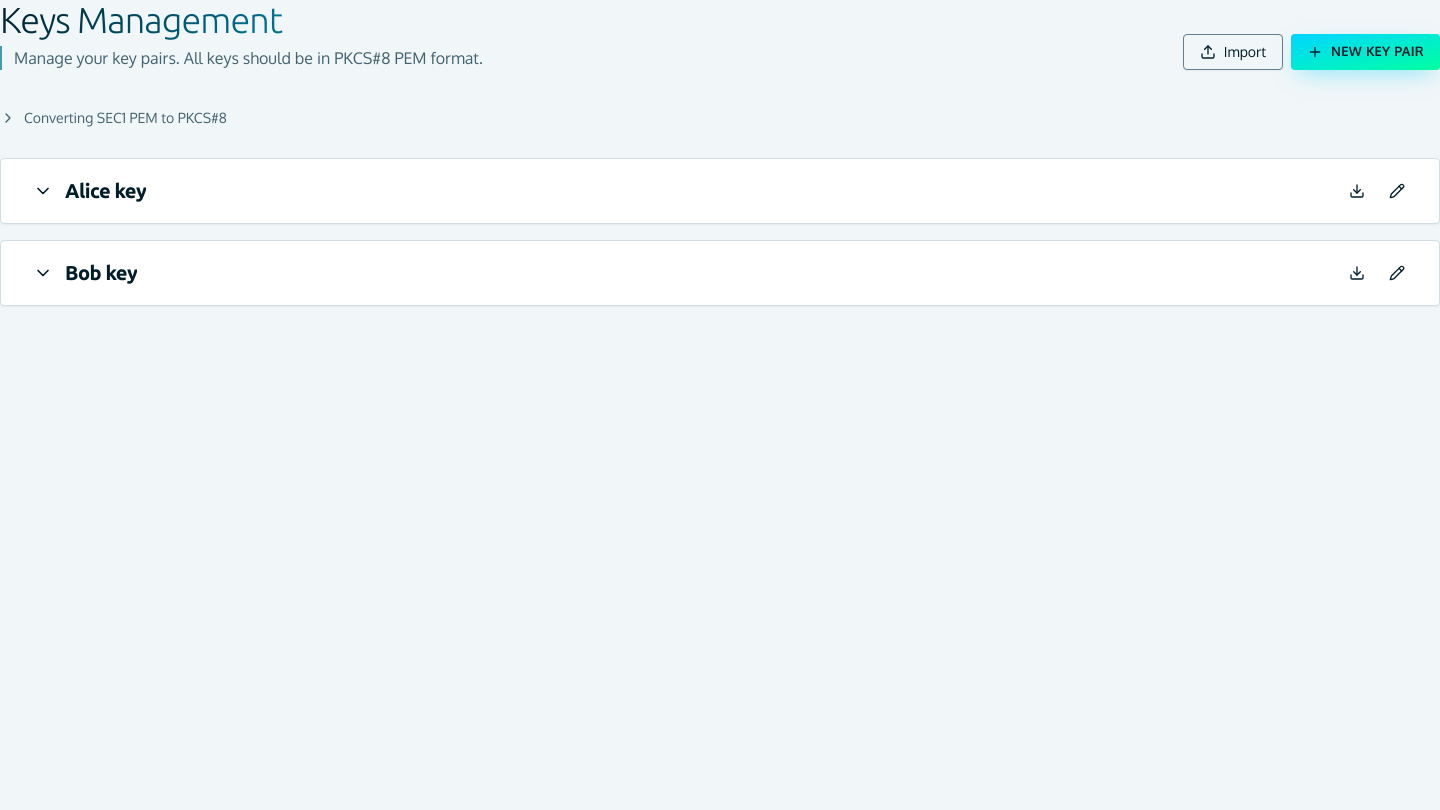
Test: Keys page › edit › updates a key pair and persists the change
Click the button named "Edit key pair Alice key" at (1397, 191), box 1379,173 -> 1415,209
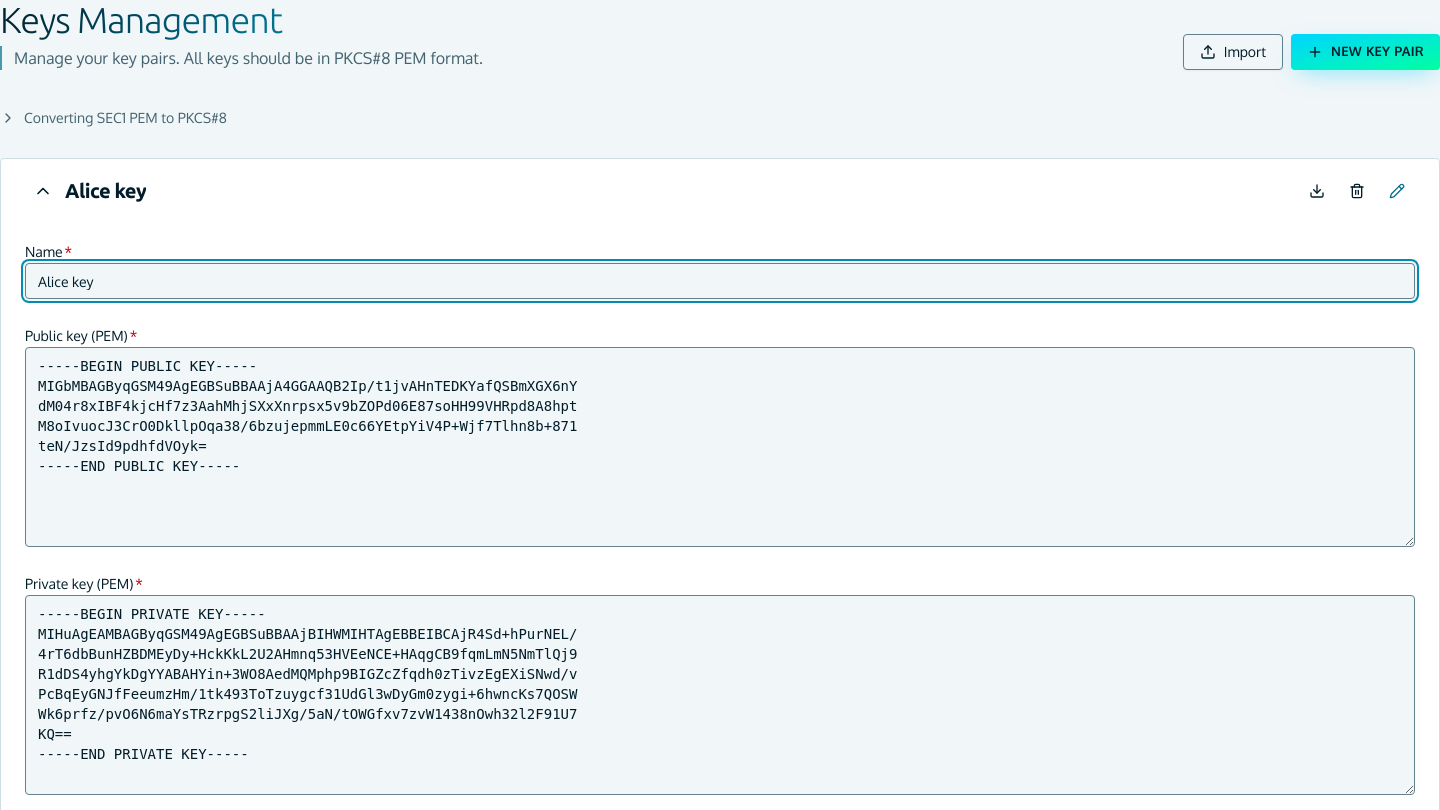
Check: the field with placeholder "Name" holds "Alice key"
Replace the text in the field with placeholder "Name" with "Alice renamed" at (720, 281), box 25,263 -> 1415,299
(page scrolled)
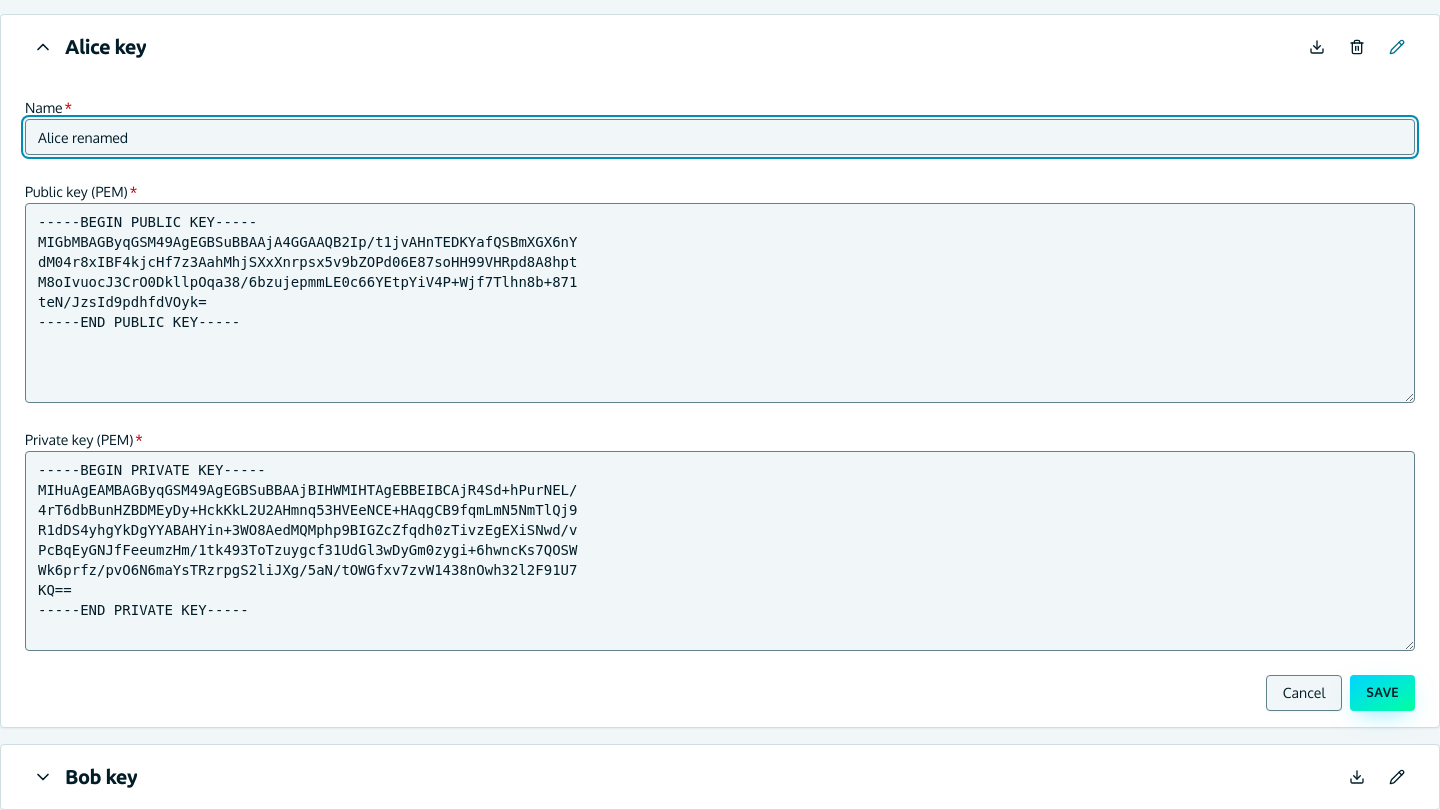
Click the button "Save" at (1383, 693), box 1350,675 -> 1415,711
(page scrolled)
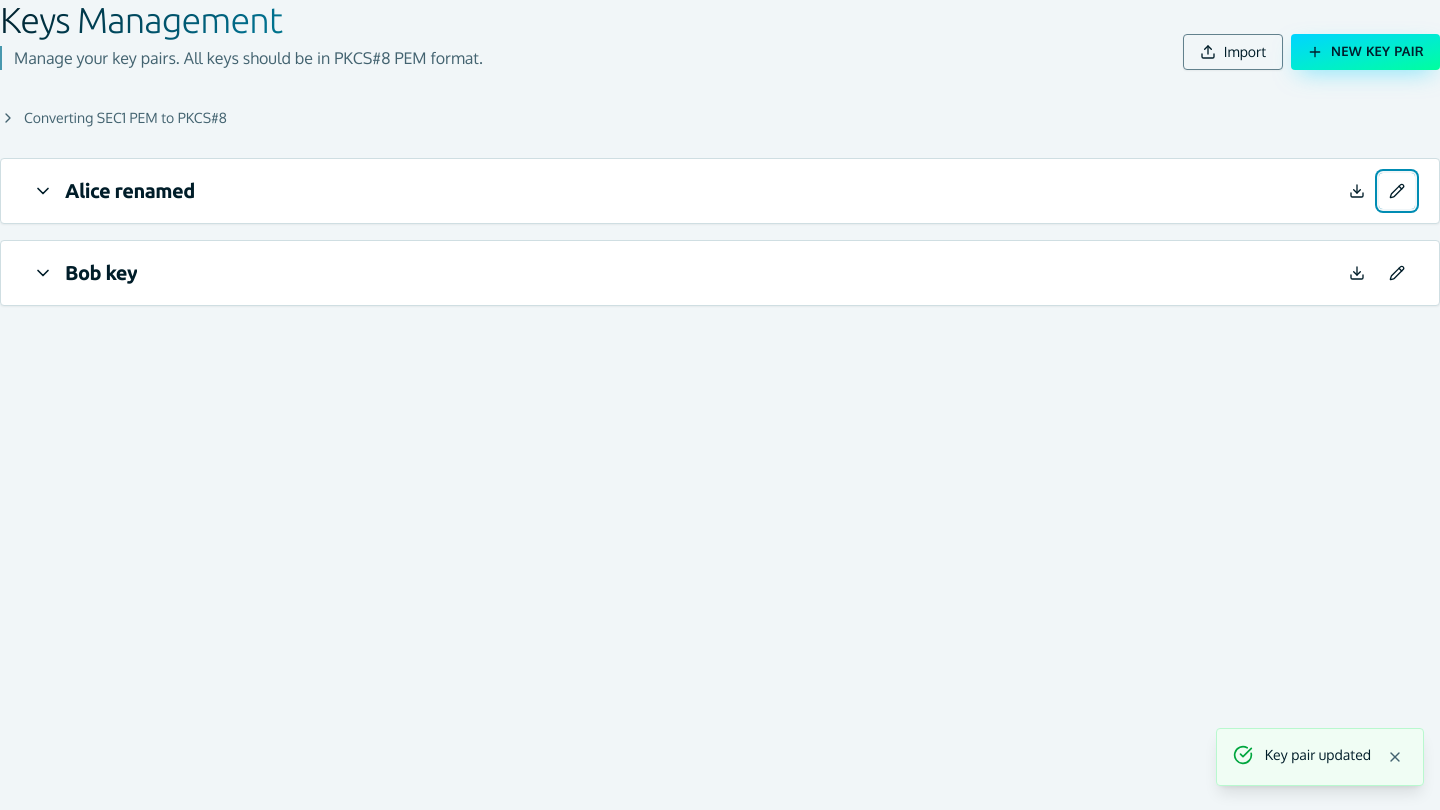
Check: the text "Bob key" is shown, box 65,258 -> 138,288
Check: the text "Key pair updated" is shown, box 1265,745 -> 1371,765
Check: the text "Alice renamed" is shown, box 65,176 -> 195,206
